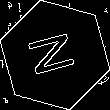N_E: (26, 29, 84, 81)
